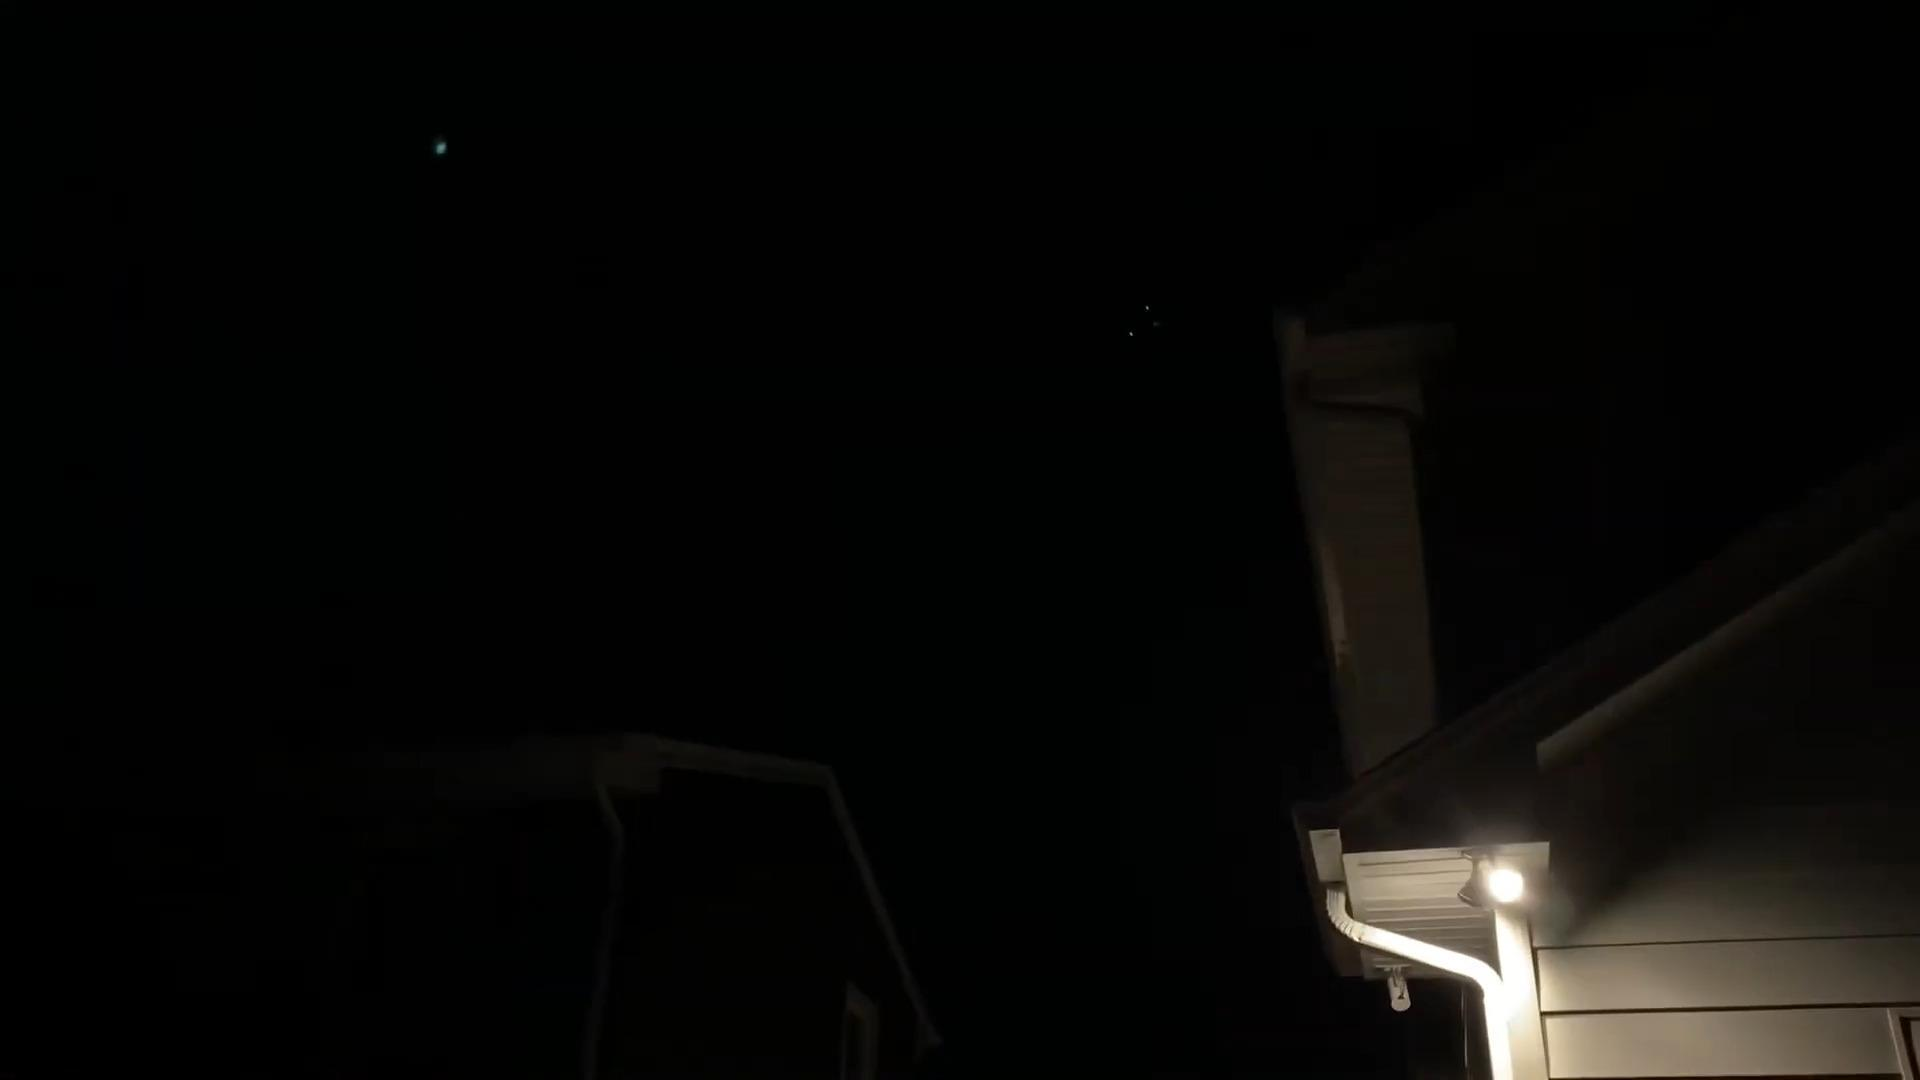Plane: (1102, 287, 1174, 369)
